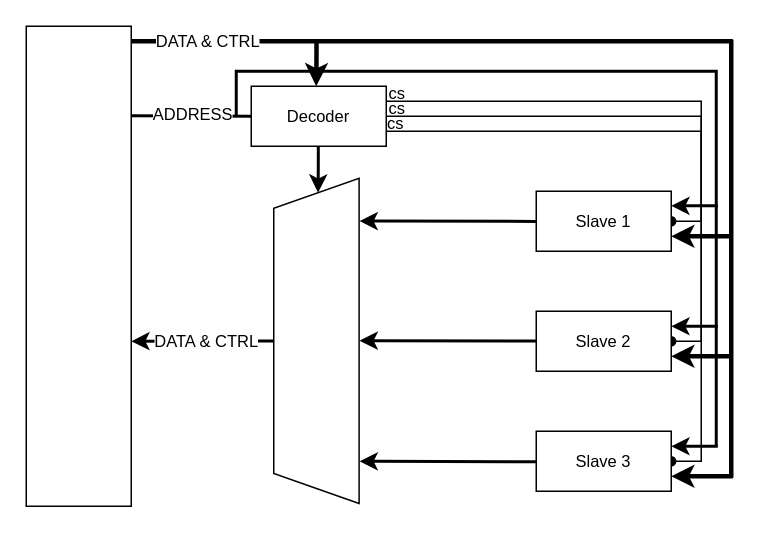
The diagram is 773 pixels wide and 533 high, and some of its shapes have lost their labels. The shapes that lost their labels are listed below. From the top down, each one's centre as x and y in pixels, then its label:
point 78,265: Master
point 315,340: Multiplexor
